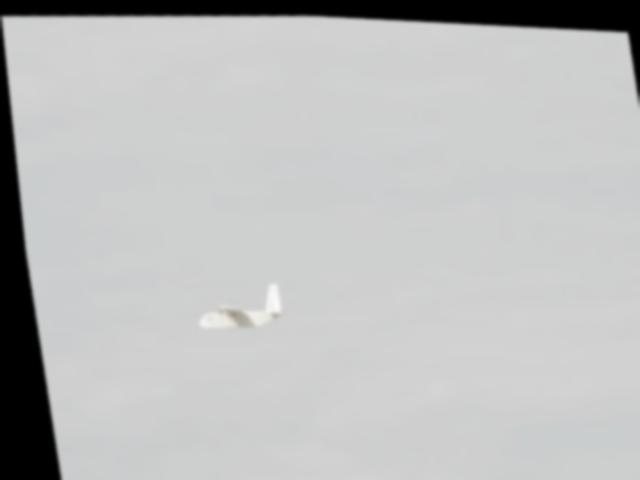uav: (182, 273, 286, 333)
